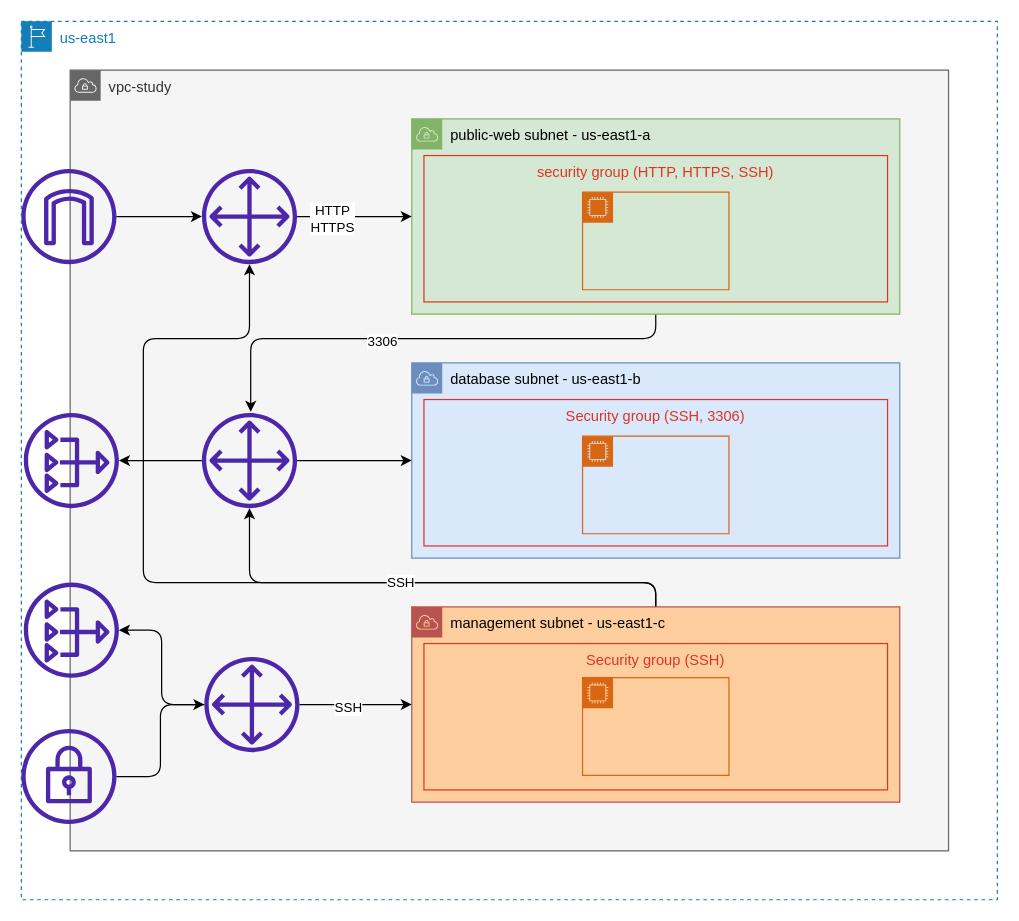
Some shapes in this 1019 by 921 pixel diagram are drawn without their labels. Each missing label, with the centre of its shape:
"Database" belongs at [655,484].
"Management" belongs at [655,725].
"Webserver" belongs at [655,240].
